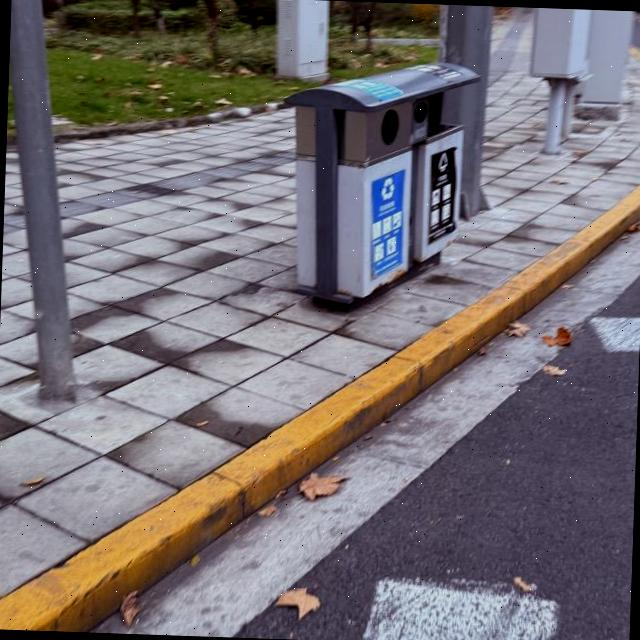curb: (0, 184, 640, 631), (54, 100, 287, 142)
